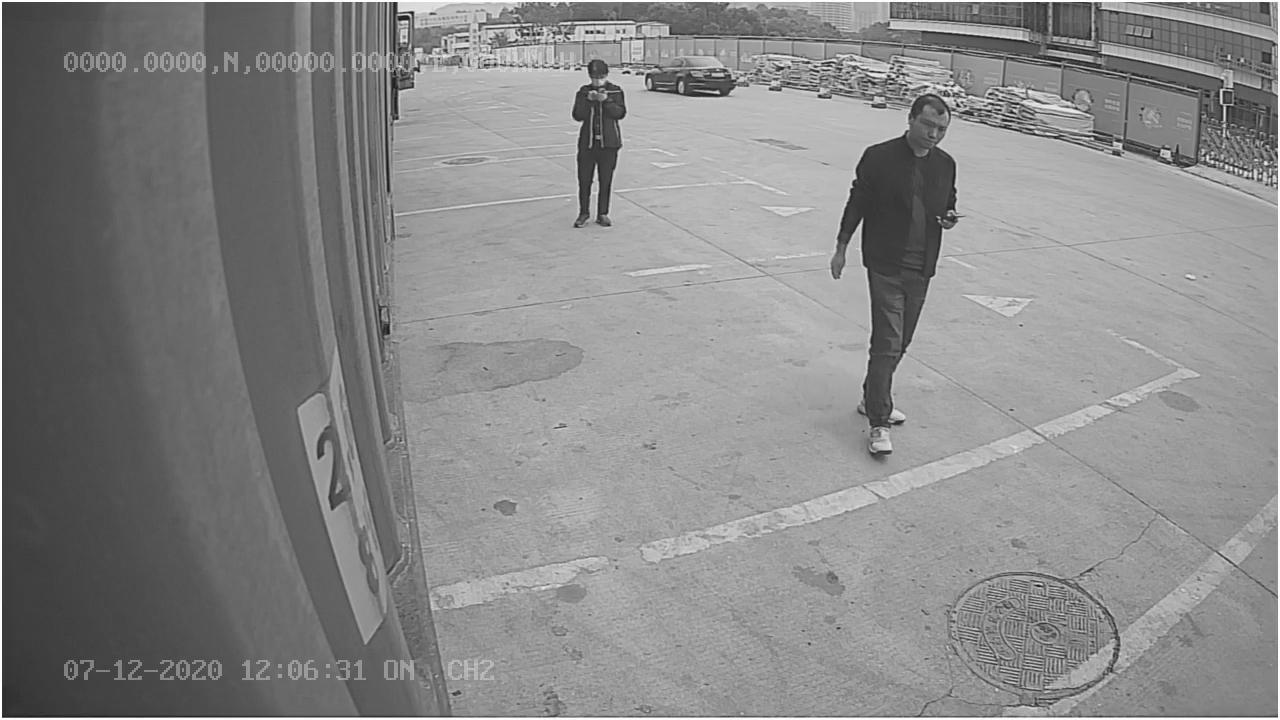person: (824, 95, 978, 460)
